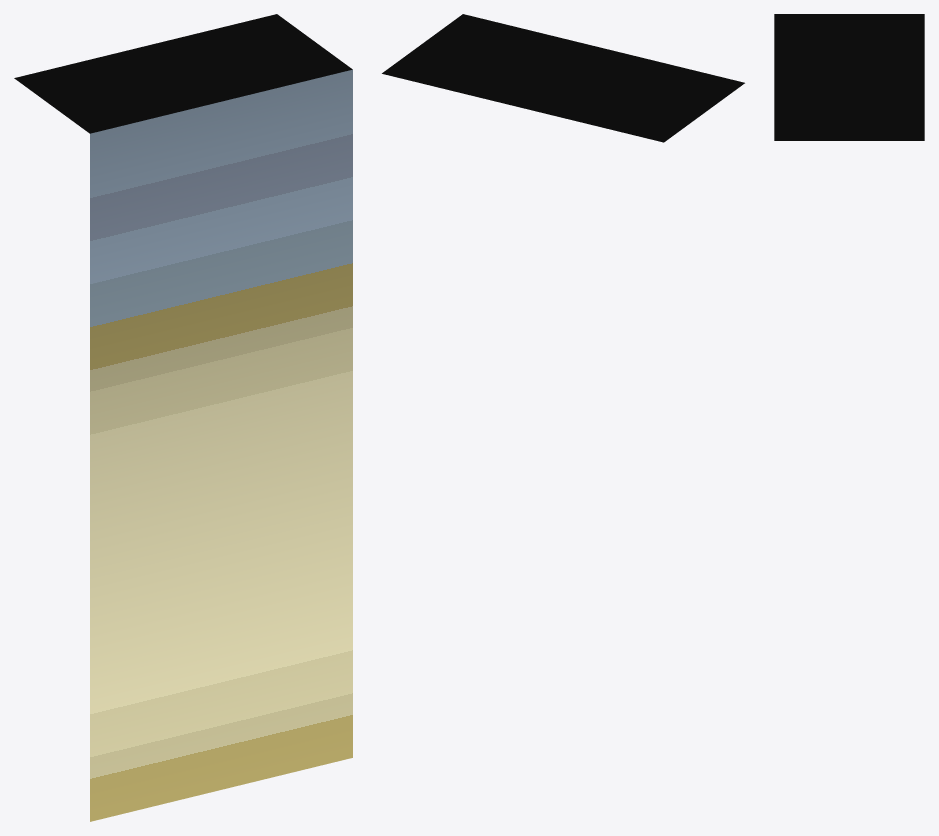
3 views of the same model, side by side, from view 1: azimuth 30°, elevation 25°; view 2: azimuth 150°, elevation 25°; view 3: azimuth 270°, elevation 25° (orthographic). The views are drawn at different scales.
Bounding box in the file's own units: 1 × 2.5 × 0.5.
Materials: 1 (1 with a texture image).
